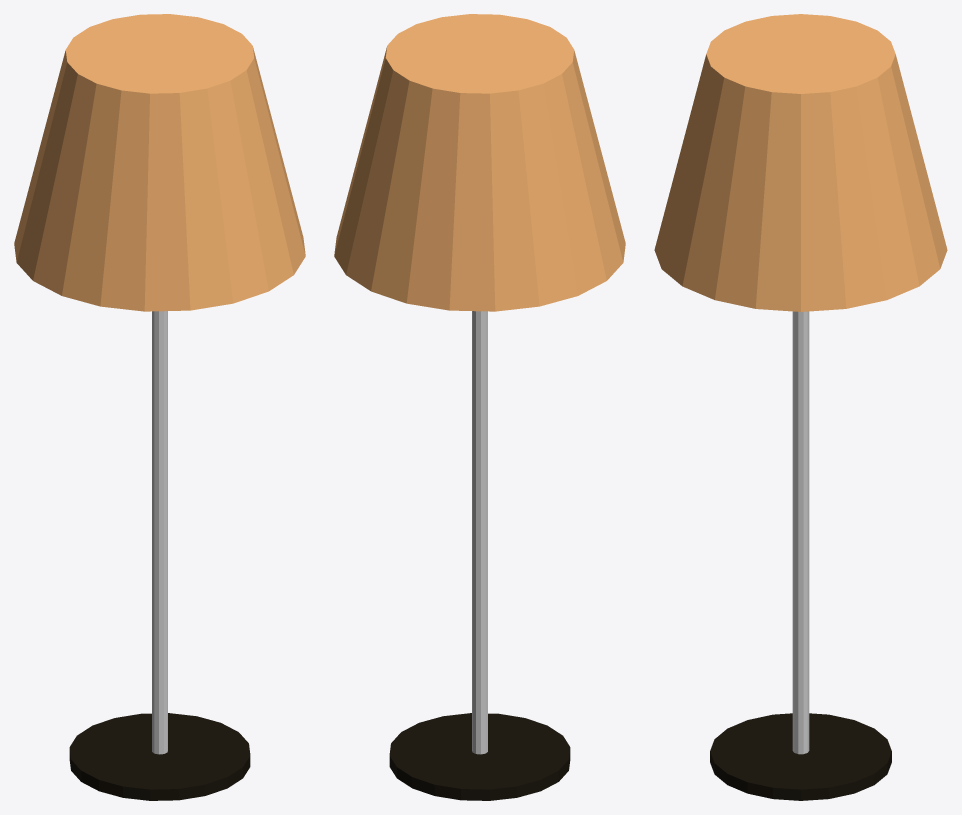
Rendered from LampTall.fbx.
3 views of the same model, side by side, from view 1: azimuth 30°, elevation 25°; view 2: azimuth 150°, elevation 25°; view 3: azimuth 270°, elevation 25° (orthographic).
Parts seen in each view (by area): view 1: Lamp.001; view 2: Lamp.001; view 3: Lamp.001.
Boxes of the visible parts, x1,y1,x2,y2 form: Lamp.001: (14, 14, 305, 800); Lamp.001: (334, 14, 625, 800); Lamp.001: (654, 14, 947, 800).
Bounding box in the file's own units: 75.01 × 200 × 75.01.
